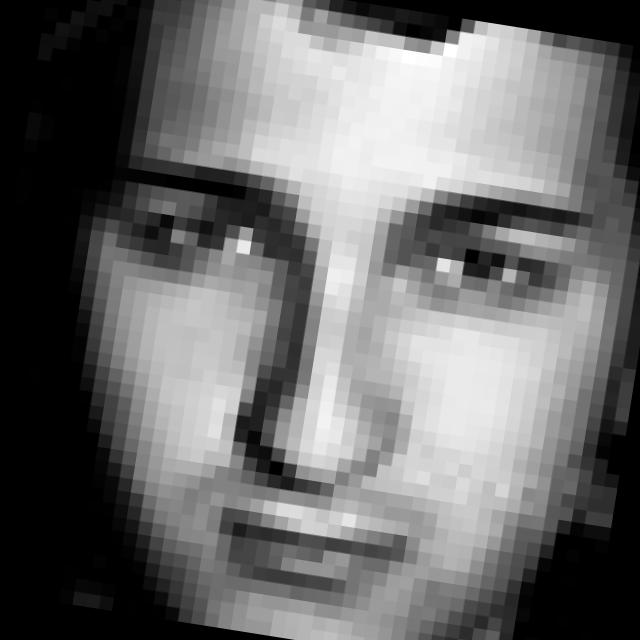neutral: (57, 129, 596, 640)
